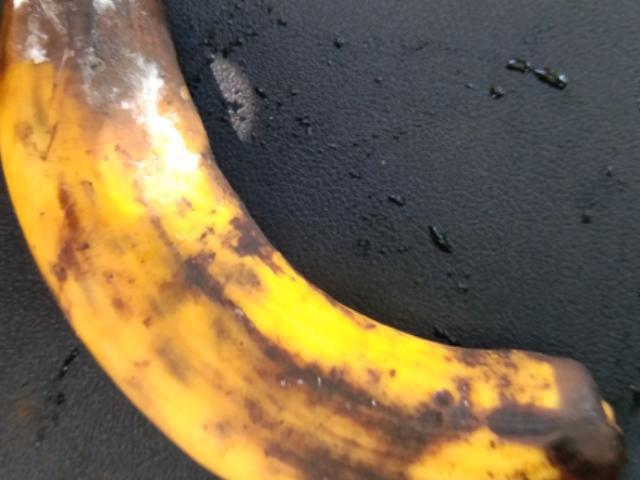overripe: (7, 4, 630, 479)
